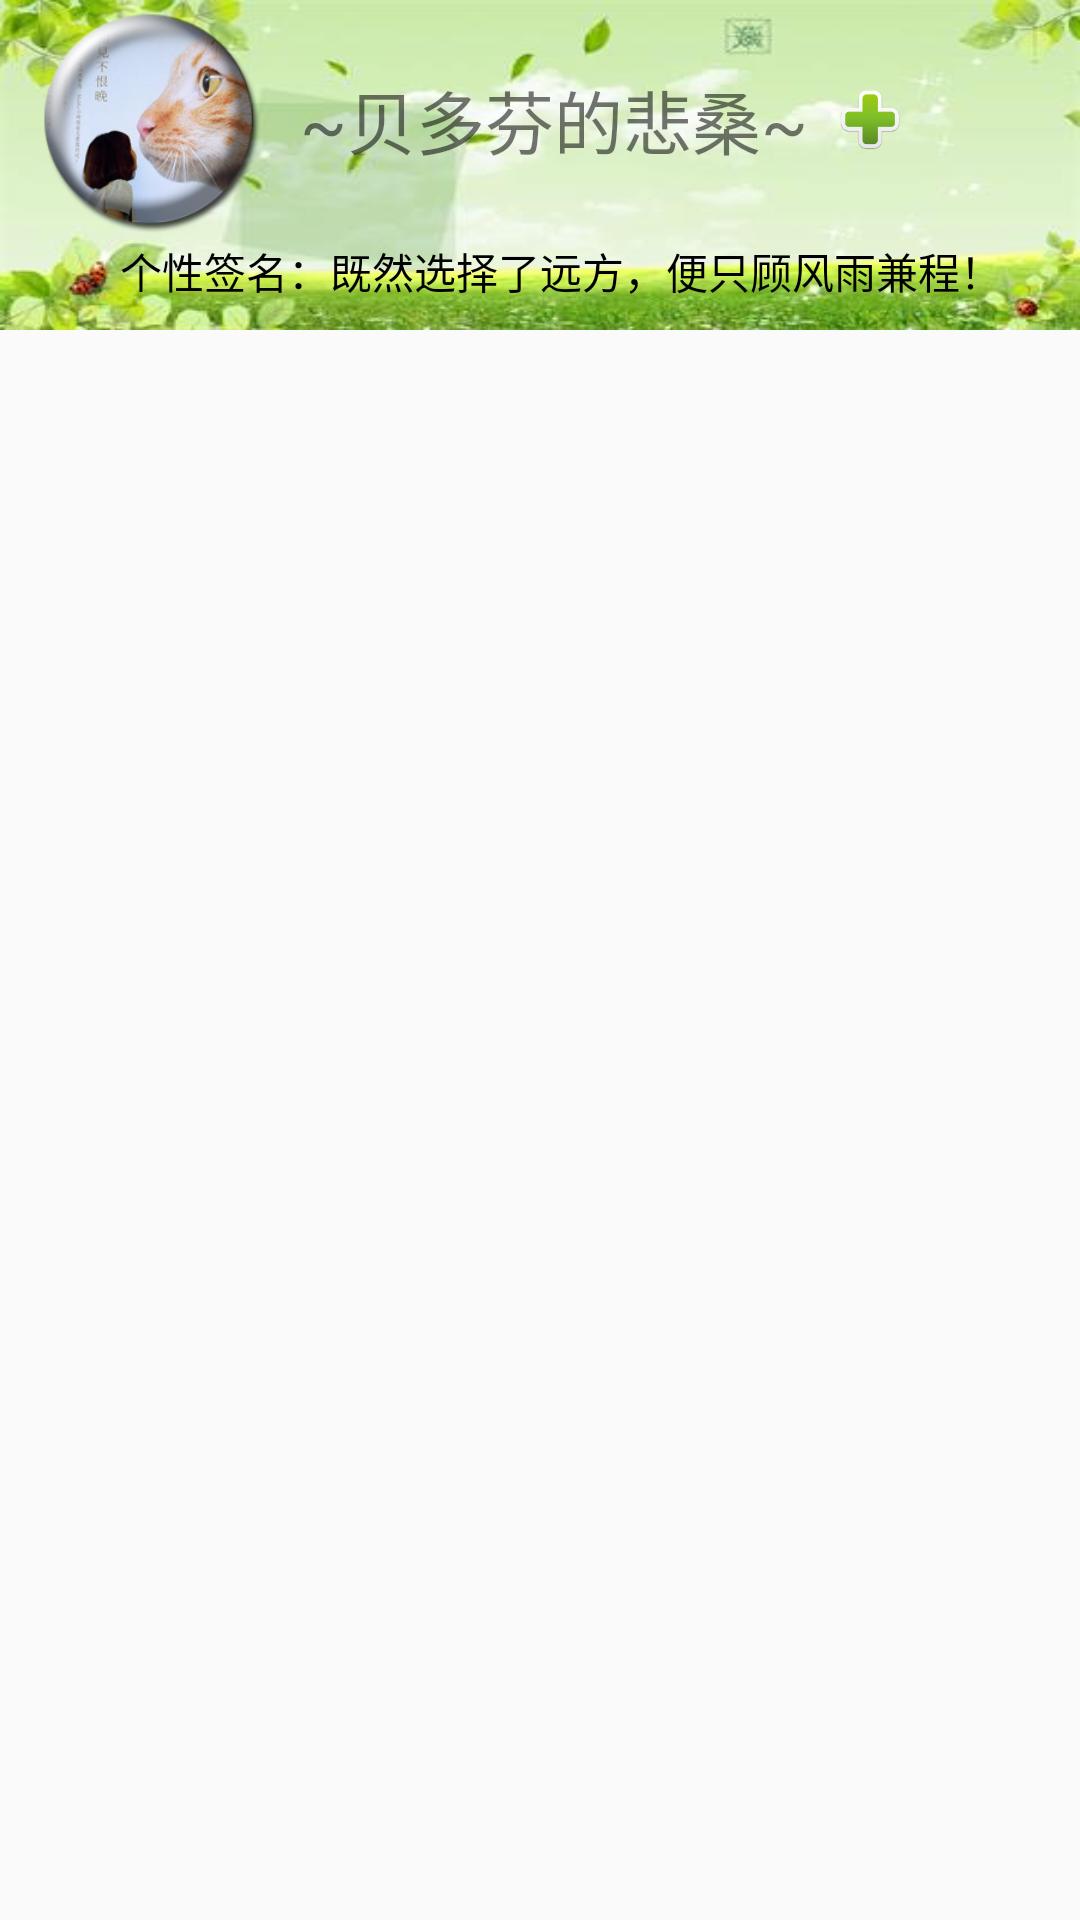

Named icons in this screenshot (1080px×1920px) and their centers, (x,y):
touxiang: (150,120)
